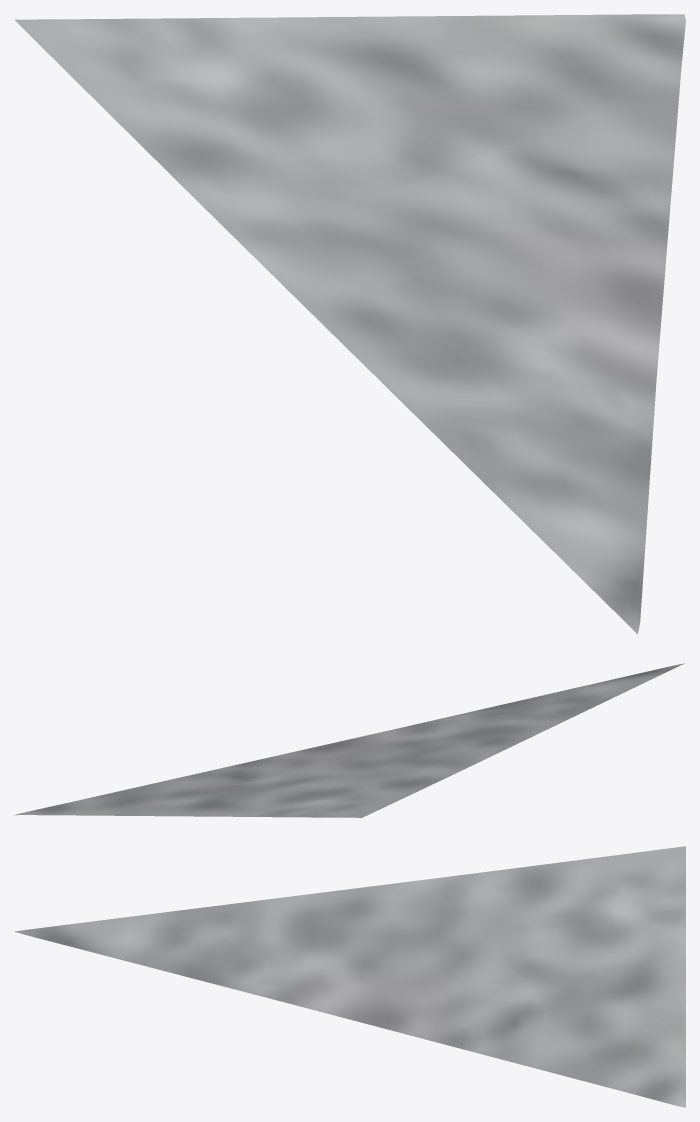
The picture shows the model from 3 angles, top to bottom: view 1: azimuth 30°, elevation 25°; view 2: azimuth 150°, elevation 25°; view 3: azimuth 270°, elevation 25°; orthographic projection. The views are drawn at different scales.
Bounding box in the file's own units: 0.2828 × 0.0639 × 0.4555.
1 material, 1 textured.
